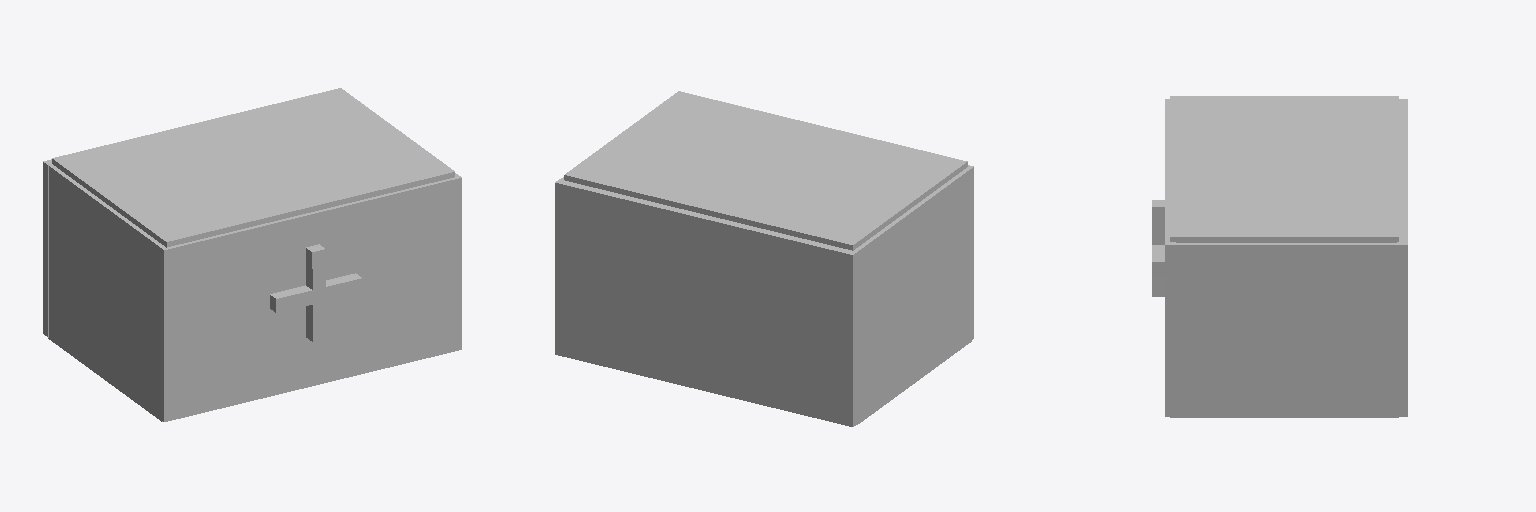
Rendered from MedCrate.obj.
3 views of the same model, side by side, from view 1: azimuth 30°, elevation 25°; view 2: azimuth 150°, elevation 25°; view 3: azimuth 270°, elevation 25° (orthographic).
Visible parts, largest first — view 1: Cube.004_Cube.005, Cube.005_Cube.006, Cube.001_Cube.002, Cube.006_Cube.007, Cube.007_Cube.008, Cube.003_Cube.004; view 2: Cube.003_Cube.004, Cube.005_Cube.006, Cube.001_Cube.002, Cube.004_Cube.005; view 3: Cube.002_Cube.003, Cube.005_Cube.006, Cube.003_Cube.004, Cube.004_Cube.005, Cube.007_Cube.008.
Boxes of the visible parts, x1,y1,x2,y2 form: Cube.004_Cube.005: [159, 174, 461, 421]; Cube.005_Cube.006: [52, 88, 454, 247]; Cube.001_Cube.002: [48, 165, 162, 421]; Cube.006_Cube.007: [270, 273, 362, 312]; Cube.007_Cube.008: [306, 244, 326, 341]; Cube.003_Cube.004: [43, 159, 52, 337]; Cube.003_Cube.004: [555, 179, 857, 426]; Cube.005_Cube.006: [564, 91, 967, 250]; Cube.001_Cube.002: [855, 169, 971, 424]; Cube.004_Cube.005: [965, 165, 973, 341]; Cube.002_Cube.003: [1170, 243, 1398, 417]; Cube.005_Cube.006: [1170, 96, 1398, 242]; Cube.003_Cube.004: [1397, 99, 1407, 416]; Cube.004_Cube.005: [1165, 99, 1175, 416]; Cube.007_Cube.008: [1152, 200, 1164, 296].
Size of the model in its own units: 1.1 by 0.6286 by 0.8158.